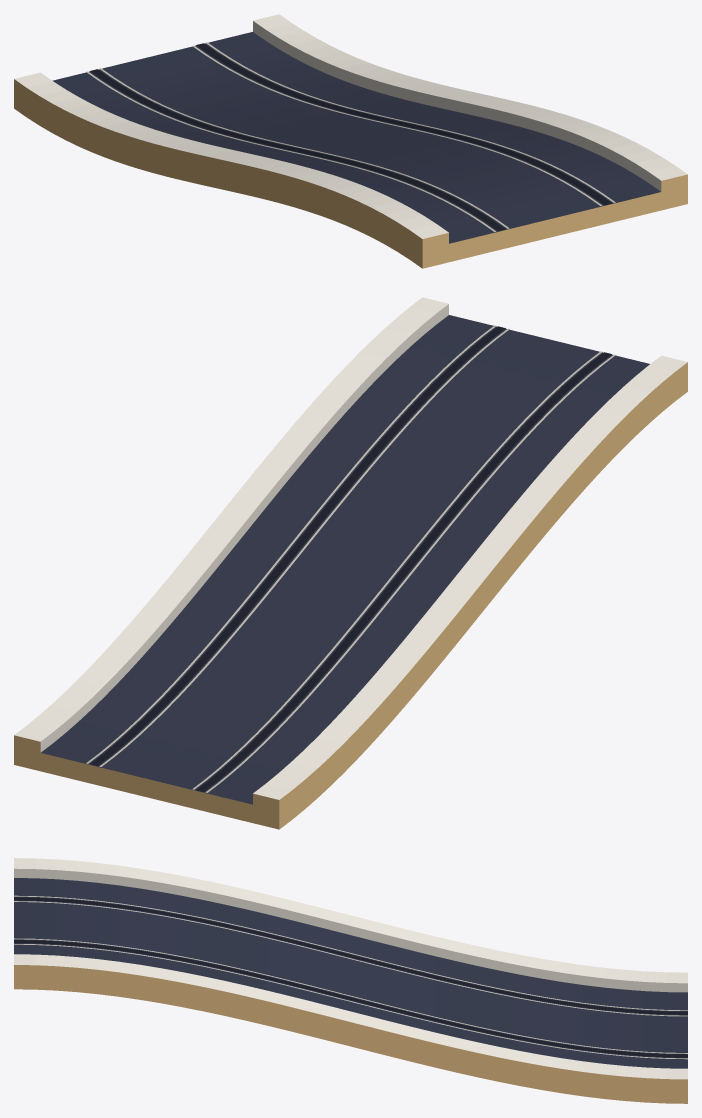
The model's file is Track_2L_RampUp.fbx.
The picture shows the model from 3 angles, top to bottom: view 1: azimuth 30°, elevation 25°; view 2: azimuth 150°, elevation 25°; view 3: azimuth 270°, elevation 25°; orthographic projection. The views are drawn at different scales.
Visible parts, largest first — view 1: Track_2L_RampUp; view 2: Track_2L_RampUp; view 3: Track_2L_RampUp.
Boxes of the visible parts, x1,y1,x2,y2 form: Track_2L_RampUp: [14, 14, 687, 268]; Track_2L_RampUp: [14, 297, 687, 829]; Track_2L_RampUp: [14, 858, 687, 1103].
Bounding box in the file's own units: 3 × 1.82 × 8.
